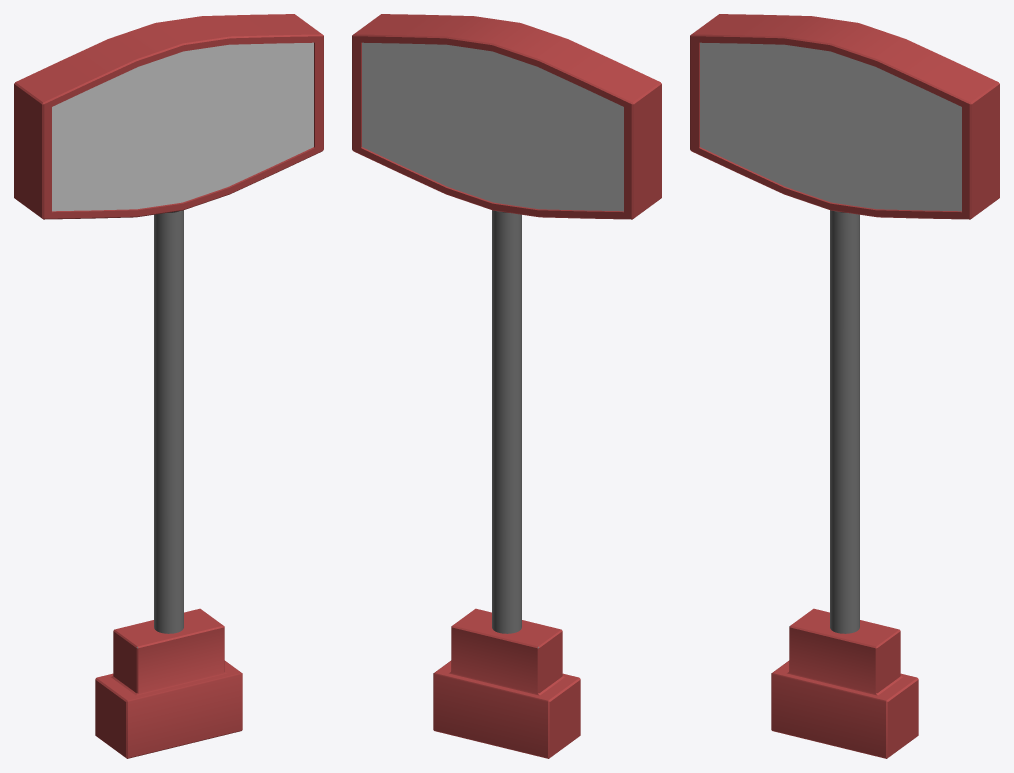
The model's file is Sign.fbx.
3 renders of one model, left to right at view 1: azimuth 30°, elevation 25°; view 2: azimuth 150°, elevation 25°; view 3: azimuth 330°, elevation 25°, orthographic.
Visible parts, largest first — view 1: Sign; view 2: Sign; view 3: Sign.
Boxes of the visible parts, bbox=[...] form: Sign: bbox=[14, 14, 323, 758]; Sign: bbox=[352, 14, 661, 758]; Sign: bbox=[690, 14, 999, 758].
Size of the model in its own units: 505 by 1199 by 100.
